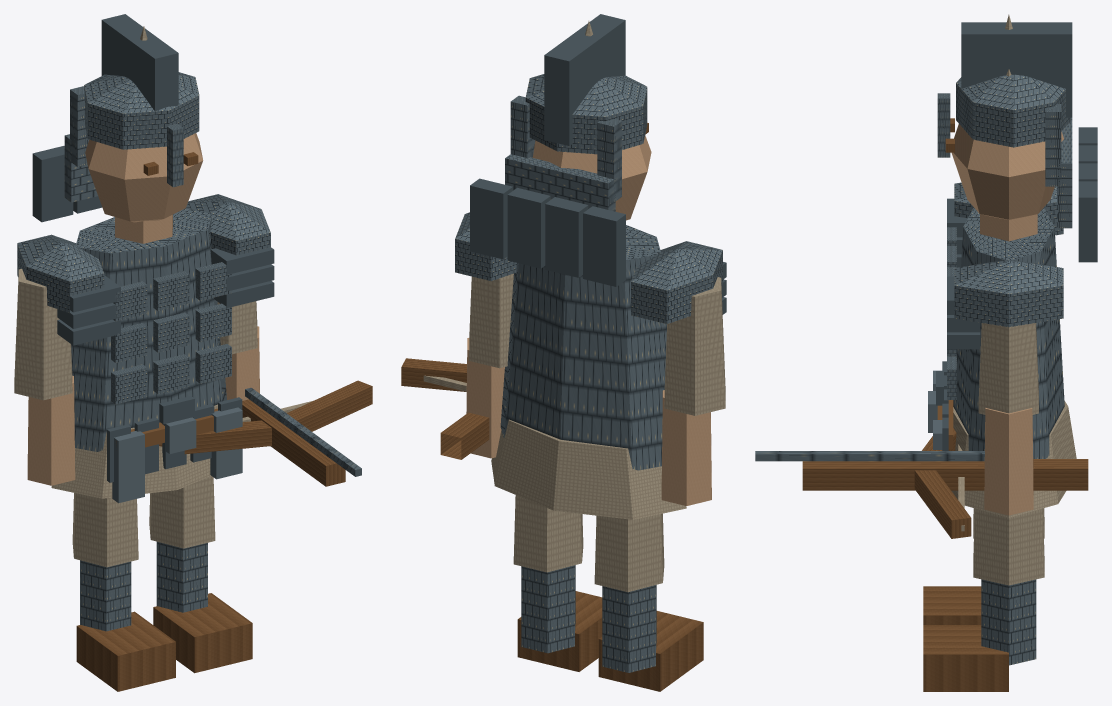
Rendered from unit-CROSSBOW-lod0.glb.
3 views of the same model, side by side, from view 1: azimuth 30°, elevation 25°; view 2: azimuth 150°, elevation 25°; view 3: azimuth 270°, elevation 25° (orthographic). The views are drawn at different scales.
Bounding box in the file's own units: 0.2499 × 0.448 × 0.216.
1 material, 1 textured.
